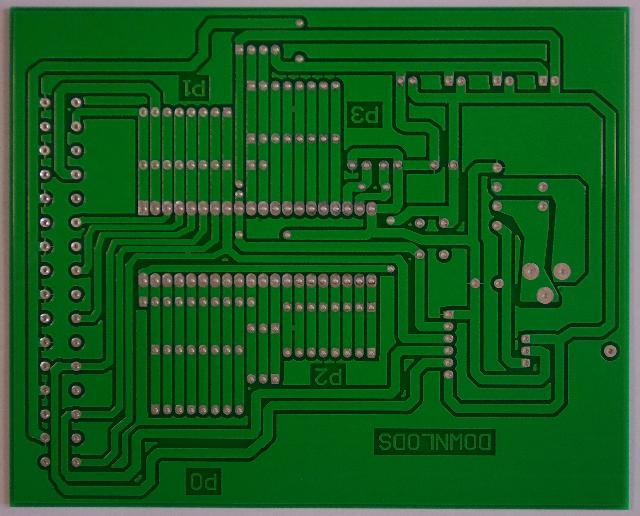short: (284, 318, 302, 338), (179, 245, 197, 261), (286, 99, 302, 117)
